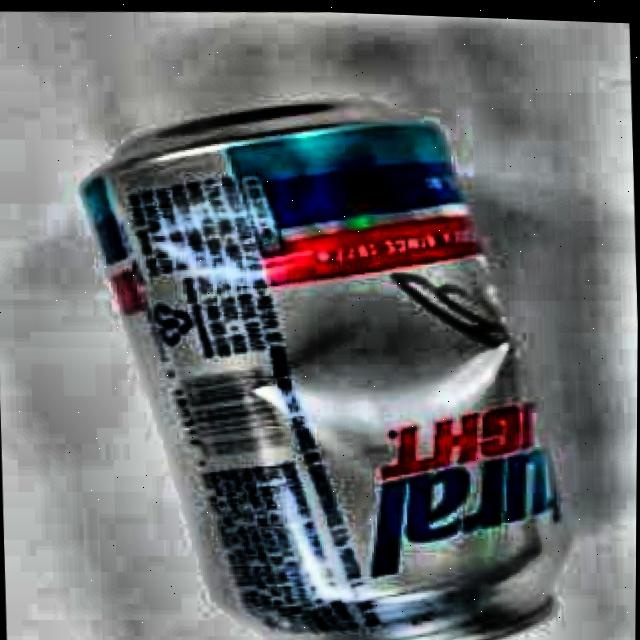metal: (76, 91, 576, 640)
